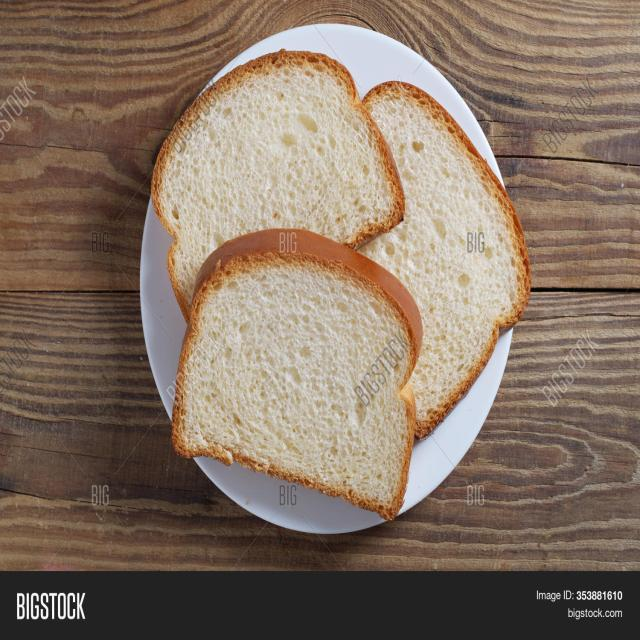Bread: (171, 229, 422, 518), (151, 50, 404, 318), (360, 81, 530, 438)
